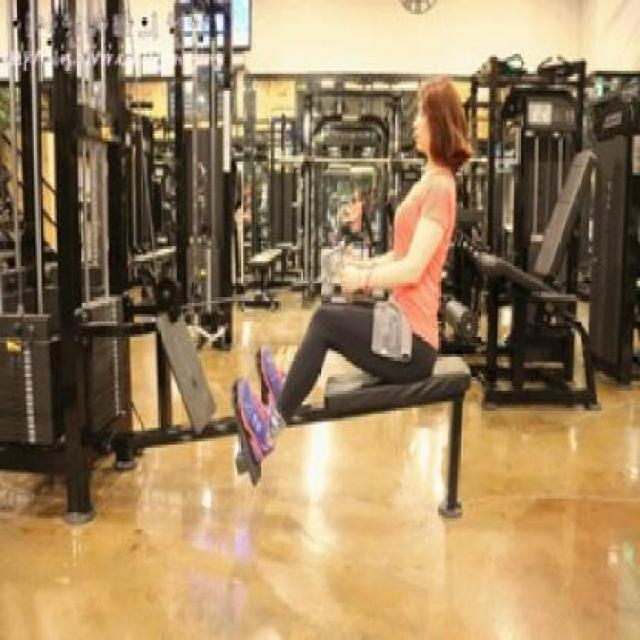Seated Cable Rows: (12, 8, 476, 538)
